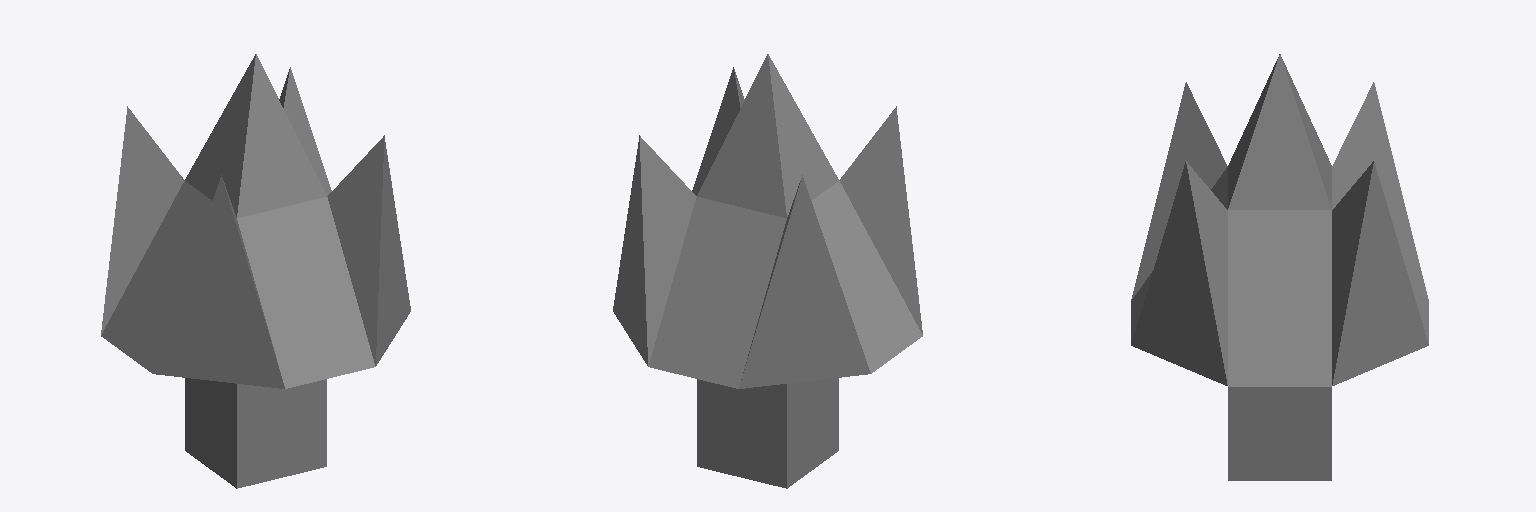
The model's file is crown.obj.
3 views of the same model, side by side, from view 1: azimuth 30°, elevation 25°; view 2: azimuth 150°, elevation 25°; view 3: azimuth 270°, elevation 25° (orthographic).
Visible parts, largest first — view 1: Box02_sep11, Box02_sep6, Box02_sep4; view 2: Box02_sep11, Box02_sep5, Box02_sep4; view 3: Box02_sep11, Box02_sep3, Box02_sep6, Box02_sep5.
Part boxes in pixels (left/top/right/bottom): Box02_sep11: left=101, top=67, right=410, bottom=488; Box02_sep6: left=237, top=54, right=326, bottom=217; Box02_sep4: left=185, top=54, right=255, bottom=216; Box02_sep11: left=613, top=67, right=922, bottom=488; Box02_sep5: left=697, top=54, right=786, bottom=217; Box02_sep4: left=768, top=54, right=838, bottom=216; Box02_sep11: left=1131, top=82, right=1428, bottom=480; Box02_sep3: left=1228, top=55, right=1331, bottom=209; Box02_sep6: left=1228, top=54, right=1279, bottom=207; Box02_sep5: left=1280, top=54, right=1331, bottom=207.
Size of the model in its own units: 2 by 3 by 2.